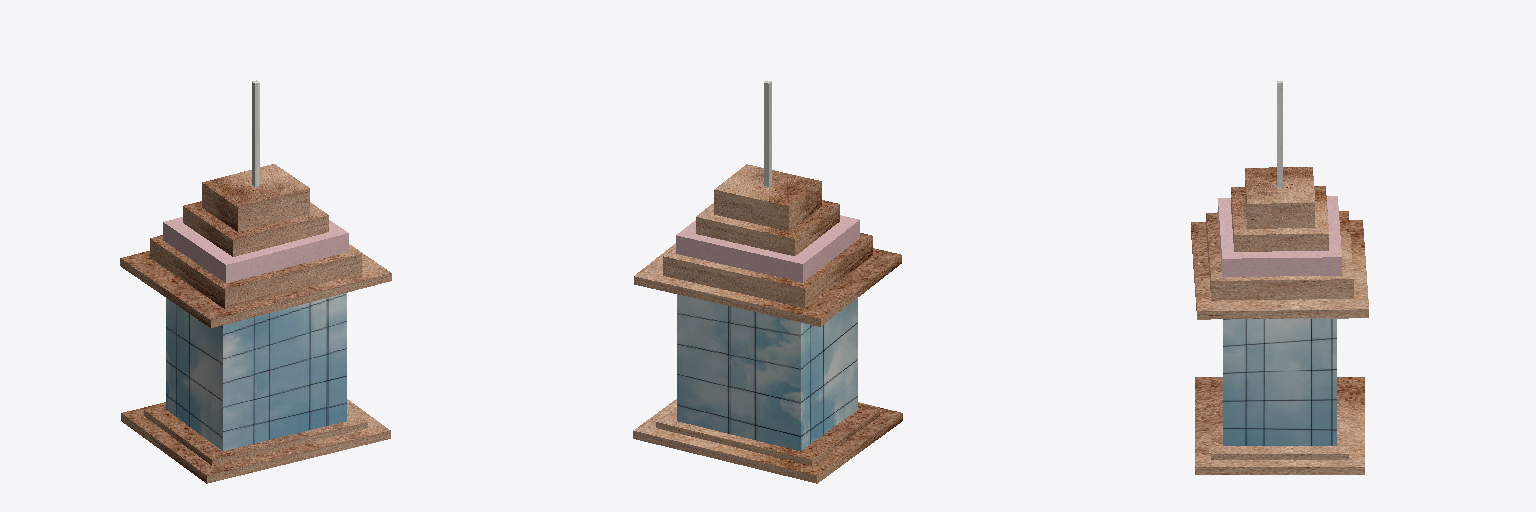
3 views of the same model, side by side, from view 1: azimuth 30°, elevation 25°; view 2: azimuth 150°, elevation 25°; view 3: azimuth 270°, elevation 25° (orthographic).
Visible parts, largest first — view 1: Cube.009, Cube, Cube.002, Cube.001; view 2: Cube.009, Cube, Cube.002, Cube.001; view 3: Cube.009, Cube, Cube.002, Cube.001.
Boxes of the visible parts, x1,y1,x2,y2 form: Cube.009: [120, 80, 391, 327]; Cube: [166, 293, 346, 450]; Cube.002: [121, 399, 390, 483]; Cube.001: [144, 404, 367, 465]; Cube.009: [634, 80, 901, 326]; Cube: [677, 294, 857, 450]; Cube.002: [633, 399, 902, 483]; Cube.001: [656, 404, 879, 465]; Cube.009: [1191, 81, 1368, 319]; Cube: [1223, 319, 1336, 445]; Cube.002: [1195, 377, 1364, 474]; Cube.001: [1211, 378, 1348, 459].
Size of the model in its own units: 10.34 by 18.25 by 8.48.
10 materials, 4 textured.